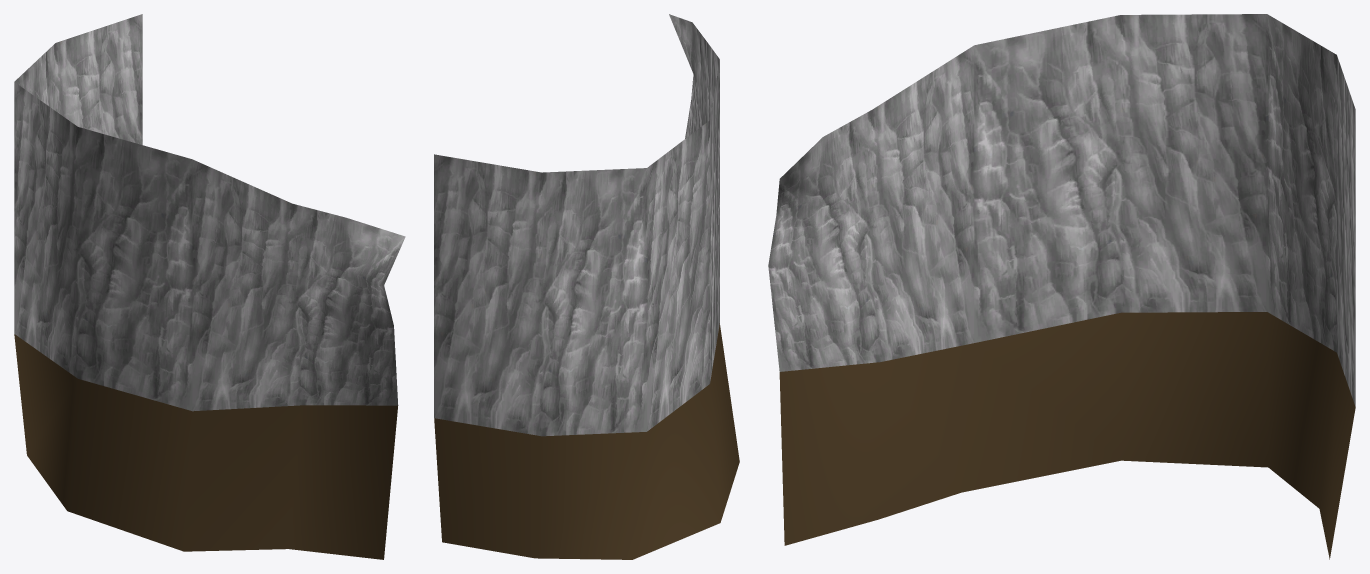
The model's file is SWORDLIGHT20_PS-AREA03_58.fbx.
3 views of the same model, side by side, from view 1: azimuth 30°, elevation 25°; view 2: azimuth 150°, elevation 25°; view 3: azimuth 270°, elevation 25° (orthographic). The views are drawn at different scales.
Visible parts, largest first — view 1: SWORDLIGHT20_PS-AREA03_58; view 2: SWORDLIGHT20_PS-AREA03_58; view 3: SWORDLIGHT20_PS-AREA03_58.
Boxes of the visible parts, x1=… form: SWORDLIGHT20_PS-AREA03_58: x1=14, y1=14, x2=405, y2=559; SWORDLIGHT20_PS-AREA03_58: x1=434, y1=14, x2=739, y2=559; SWORDLIGHT20_PS-AREA03_58: x1=768, y1=14, x2=1355, y2=559.
Bounding box in the file's own units: 63313 × 120135 × 140477.
Materials: 2 (2 with a texture image).
